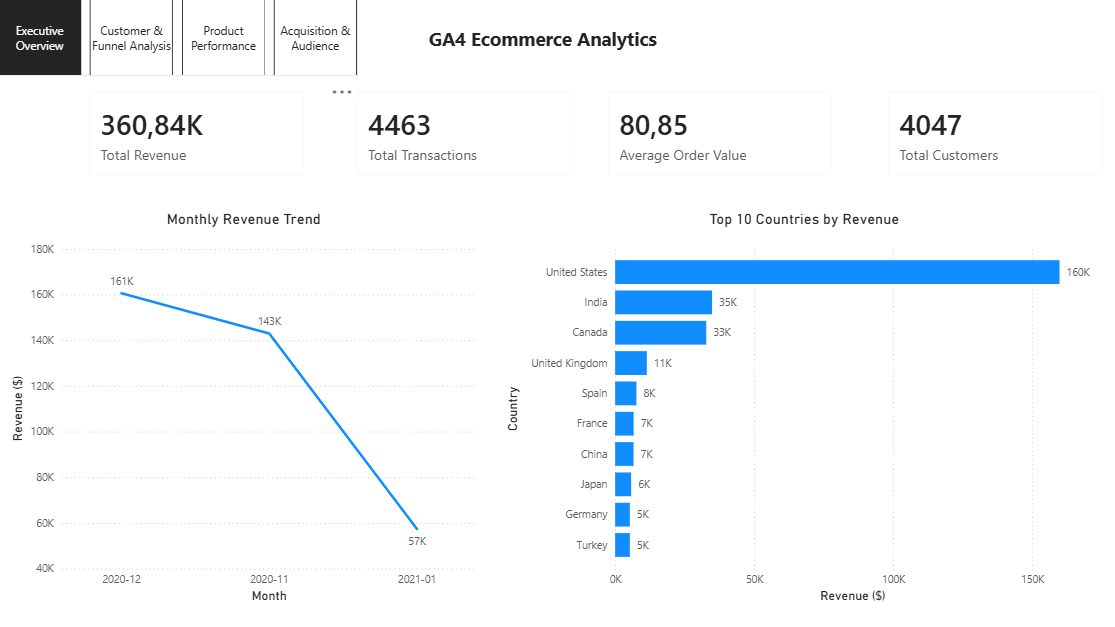

The dashboard page shown, as its layout file describes it:
{"tool":"powerbi","page":{"name":"Executive Overview","canvas":[1280,720],"ordinal":0},"visuals":[{"type":"cardVisual","fields":{"Data":["Sum(revenue_monthly.revenue)"]},"box":[86.7,88.3,280,130],"z":0},{"type":"cardVisual","fields":{"Data":["Sum(revenue_monthly.transactions)"]},"box":[393.3,88.3,280,130],"z":1000},{"type":"cardVisual","fields":{"Data":["revenue_monthly.Average Order Value"]},"box":[680,88.3,290,130],"z":2000},{"type":"cardVisual","fields":{"Data":["customer_metrics.Total Customers"]},"box":[1000,88.3,280,130],"z":3000},{"type":"lineChart","title":"Monthly Revenue Trend","fields":{"Category":["revenue_monthly.month"],"Y":["Sum(revenue_monthly.revenue)"]},"box":[10,241.7,541.7,453.3],"z":4000},{"type":"clusteredBarChart","title":"Top 10 Countries by Revenue","fields":{"Category":["revenue_by_country.country"],"Y":["Sum(revenue_by_country.revenue)"]},"box":[575,241.7,691.7,453.3],"z":5000},{"type":"textbox","box":[486.7,25,387,39.8],"z":6000},{"type":"pageNavigator","box":[0,0,411.7,88.3],"z":6001}]}

Visuals, with their boxes in screenshot pixels (x1, y1, x2, y2), scaled from the page's 1280x720 canvas onto the 1115x627 screenshot:
cardVisual - Sum(revenue_monthly.revenue): Rect(76, 77, 319, 190)
cardVisual - Sum(revenue_monthly.transactions): Rect(343, 77, 587, 190)
cardVisual - revenue_monthly.Average Order Value: Rect(592, 77, 845, 190)
cardVisual - customer_metrics.Total Customers: Rect(871, 77, 1114, 190)
"Monthly Revenue Trend" lineChart: Rect(9, 210, 481, 605)
"Top 10 Countries by Revenue" clusteredBarChart: Rect(501, 210, 1103, 605)
textbox: Rect(424, 22, 761, 56)
pageNavigator: Rect(0, 0, 359, 77)
